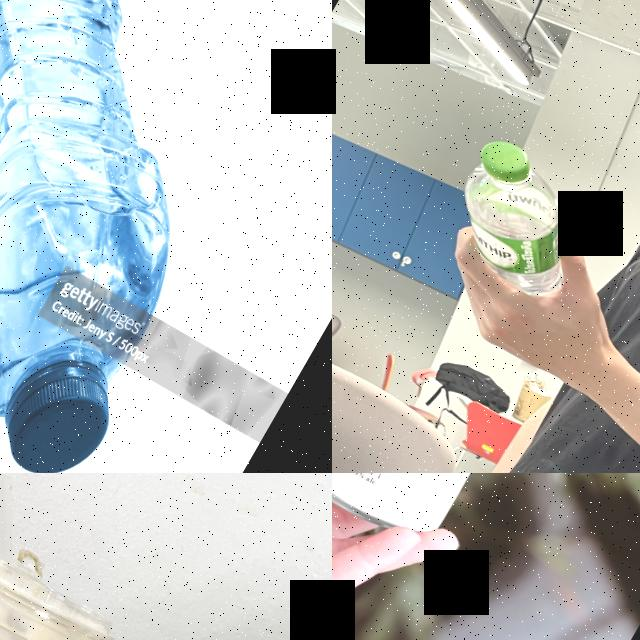bottle: (0, 0, 332, 473), (430, 132, 612, 308)
can: (332, 473, 563, 558)
cup: (0, 545, 124, 640)
